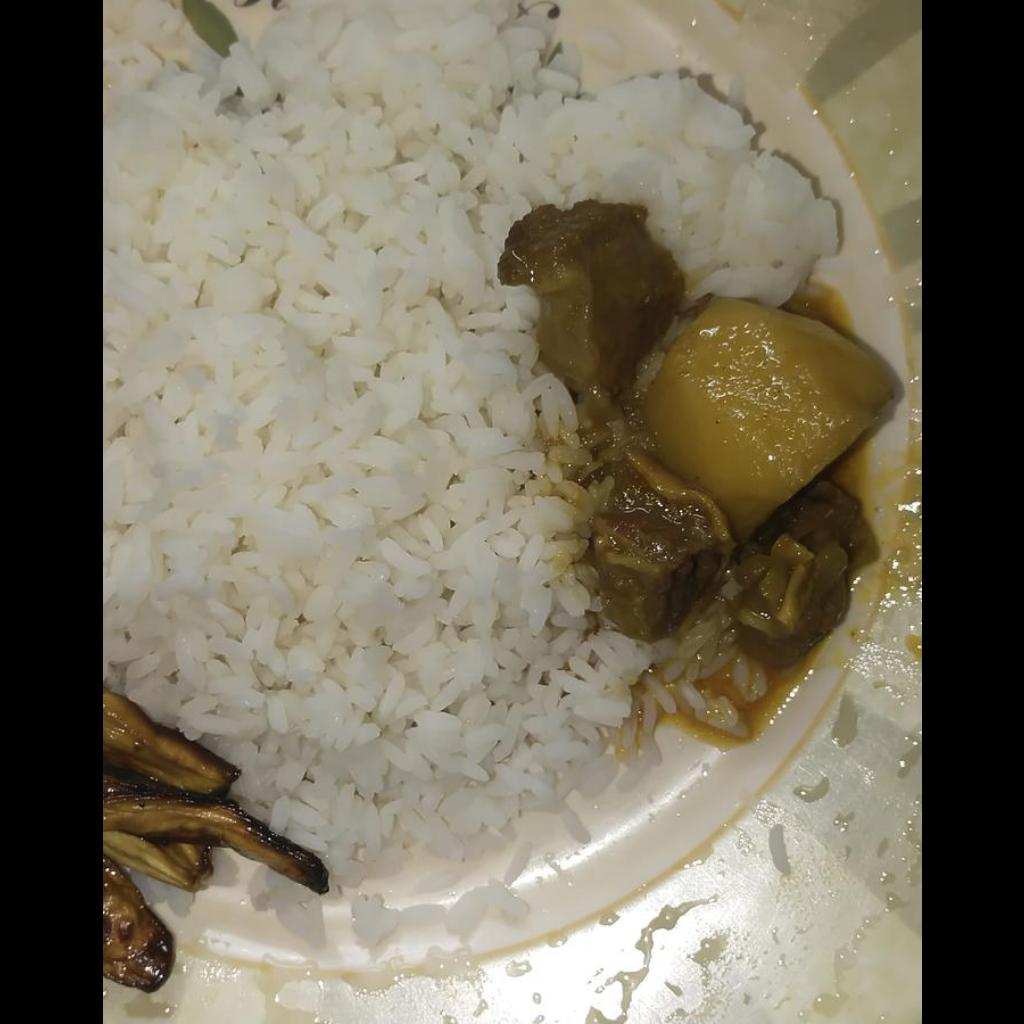beef: (505, 211, 875, 660)
potato: (647, 305, 906, 525)
rice: (102, 0, 845, 877)
